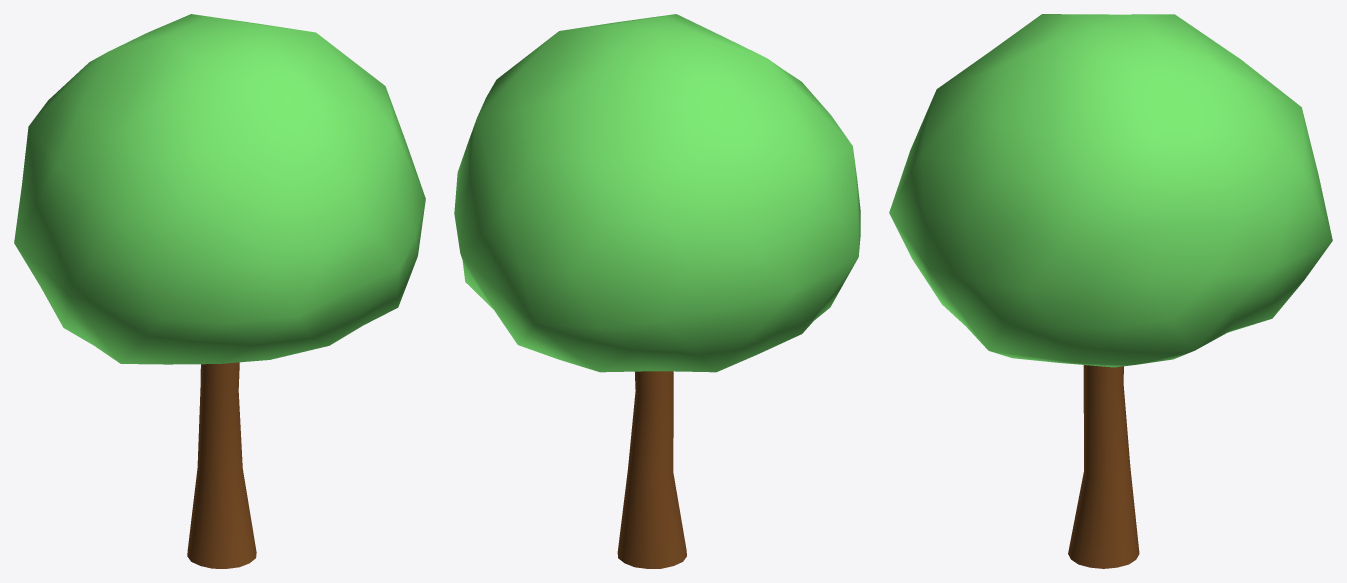
The model's file is SM_OakTree.fbx.
The picture shows the model from 3 angles, left to right: view 1: azimuth 30°, elevation 25°; view 2: azimuth 150°, elevation 25°; view 3: azimuth 270°, elevation 25°; orthographic projection.
Parts seen in each view (by area): view 1: OakLeaves, OakTrunk; view 2: OakLeaves, OakTrunk; view 3: OakLeaves, OakTrunk.
Part boxes in pixels (x1,y1,x2,y2): OakLeaves: (14, 14, 425, 364); OakTrunk: (187, 362, 256, 568); OakLeaves: (454, 14, 860, 372); OakTrunk: (617, 371, 686, 568); OakLeaves: (889, 14, 1332, 367); OakTrunk: (1068, 365, 1139, 568).
Size of the model in its own units: 873 by 1235 by 944.
